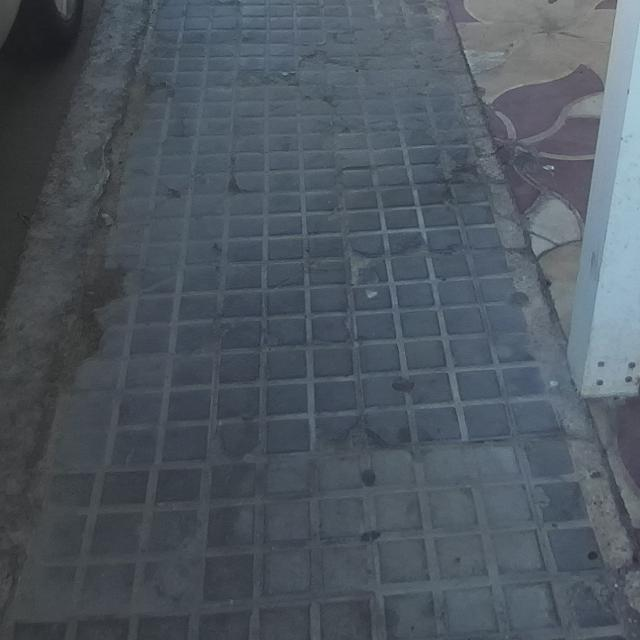calcada_quebrada: (52, 262, 135, 391), (347, 237, 464, 299), (285, 32, 367, 89), (323, 412, 396, 463), (418, 134, 475, 186), (223, 151, 266, 198), (142, 77, 181, 105)
